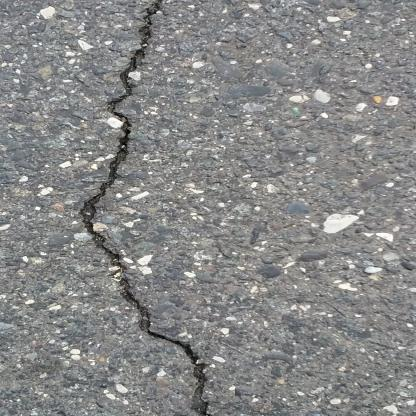Cracks: (82, 0, 240, 416)
